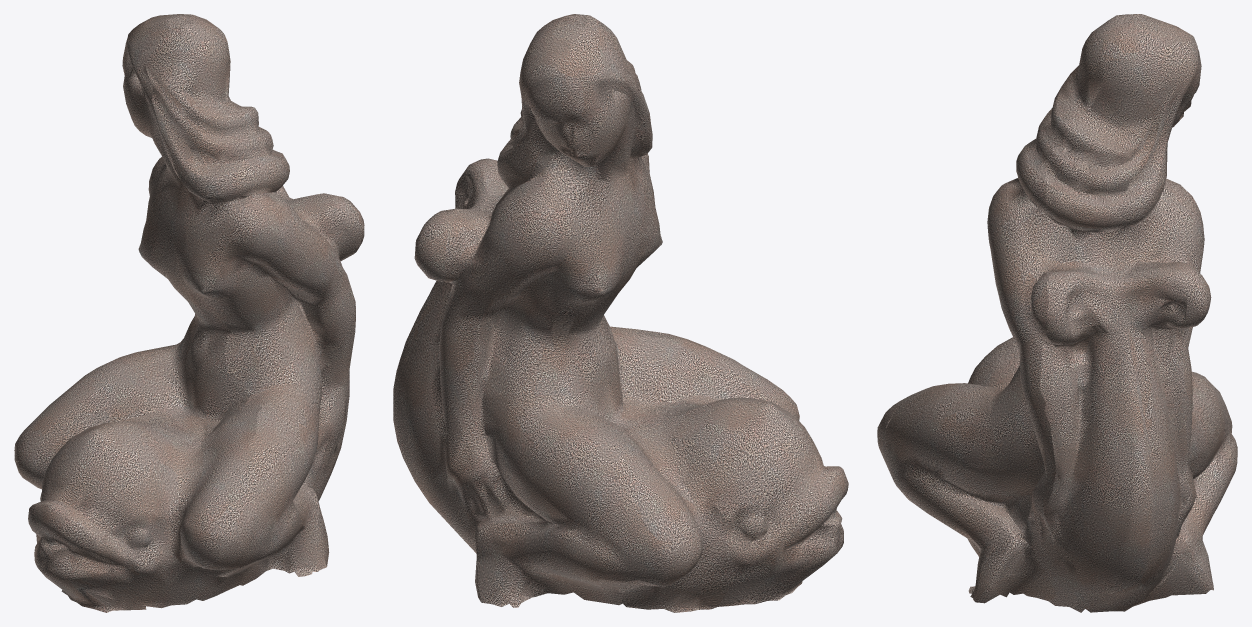
Rendered from statue.fbx.
3 renders of one model, left to right at view 1: azimuth 30°, elevation 25°; view 2: azimuth 150°, elevation 25°; view 3: azimuth 270°, elevation 25°, orthographic. The views are drawn at different scales.
Visible parts, largest first — view 1: FountainStatue; view 2: FountainStatue; view 3: FountainStatue.
Part boxes in pixels (bbox=[...]): FountainStatue: bbox=[14, 14, 364, 612]; FountainStatue: bbox=[393, 14, 848, 612]; FountainStatue: bbox=[877, 14, 1237, 612].
Bounding box in the file's own units: 18.33 × 25.28 × 15.09.
